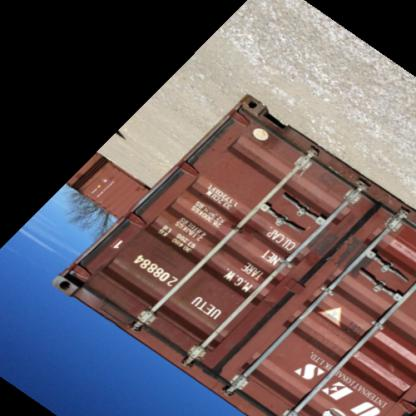Damage: (308, 232, 372, 280), (244, 115, 288, 156), (308, 162, 352, 200), (103, 300, 136, 332), (57, 265, 84, 299), (254, 290, 285, 316), (384, 358, 401, 386)
